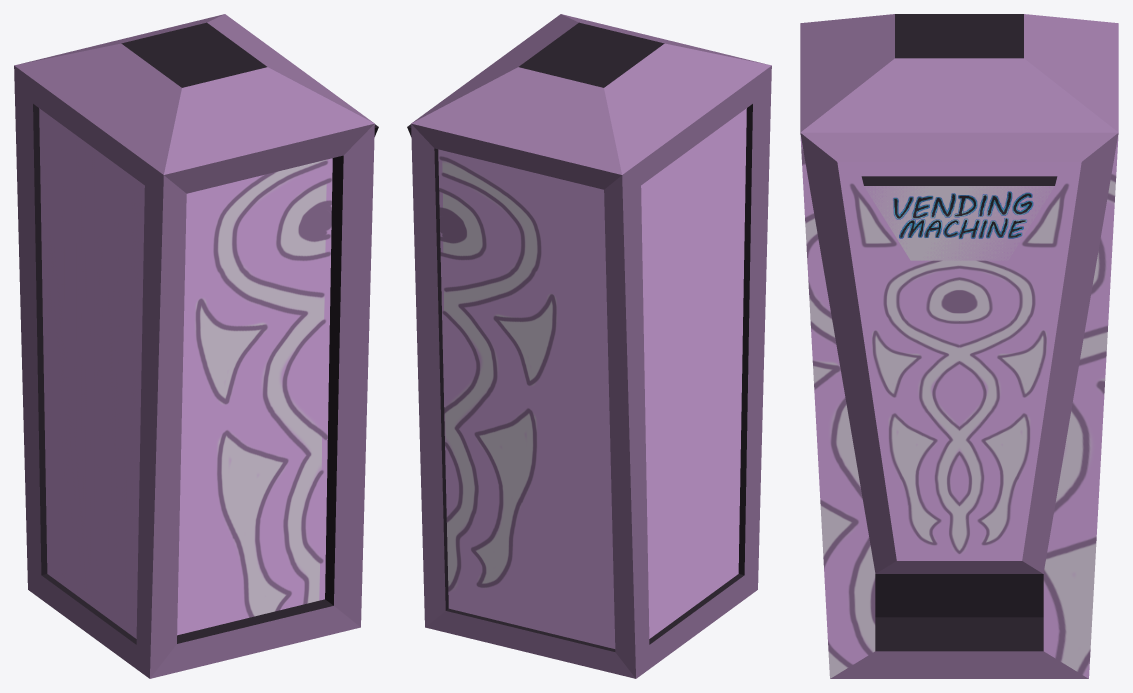
The model's file is Vending Machine.fbx.
3 renders of one model, left to right at view 1: azimuth 30°, elevation 25°; view 2: azimuth 150°, elevation 25°; view 3: azimuth 270°, elevation 25°, orthographic. The views are drawn at different scales.
Visible parts, largest first — view 1: Cube; view 2: Cube; view 3: Cube.
Part boxes in pixels (x1,y1,x2,y2): Cube: (14, 14, 378, 678); Cube: (407, 14, 771, 678); Cube: (800, 14, 1118, 678).
Bounding box in the file's own units: 232 × 246 × 501.
